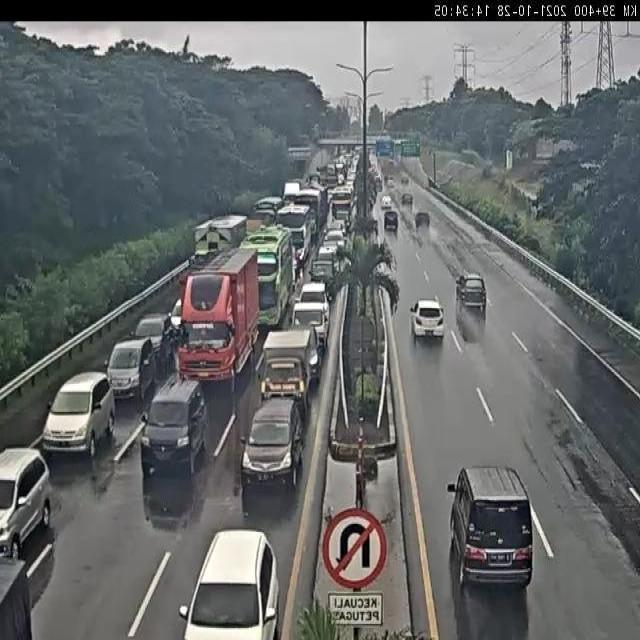Bus: (245, 228, 293, 327), (278, 205, 312, 264)
Car: (176, 526, 284, 638), (0, 437, 53, 560), (110, 336, 157, 404), (133, 313, 170, 367), (410, 301, 446, 346), (294, 305, 328, 345), (295, 281, 331, 304), (382, 211, 401, 231), (414, 211, 430, 226), (380, 196, 393, 209)
Truck: (172, 249, 260, 392), (258, 331, 314, 403), (193, 216, 249, 253), (298, 184, 326, 231), (246, 196, 284, 227), (332, 184, 352, 216)
Van: (441, 459, 541, 599), (137, 378, 209, 479), (40, 376, 116, 465), (243, 393, 303, 499), (455, 270, 489, 333)
